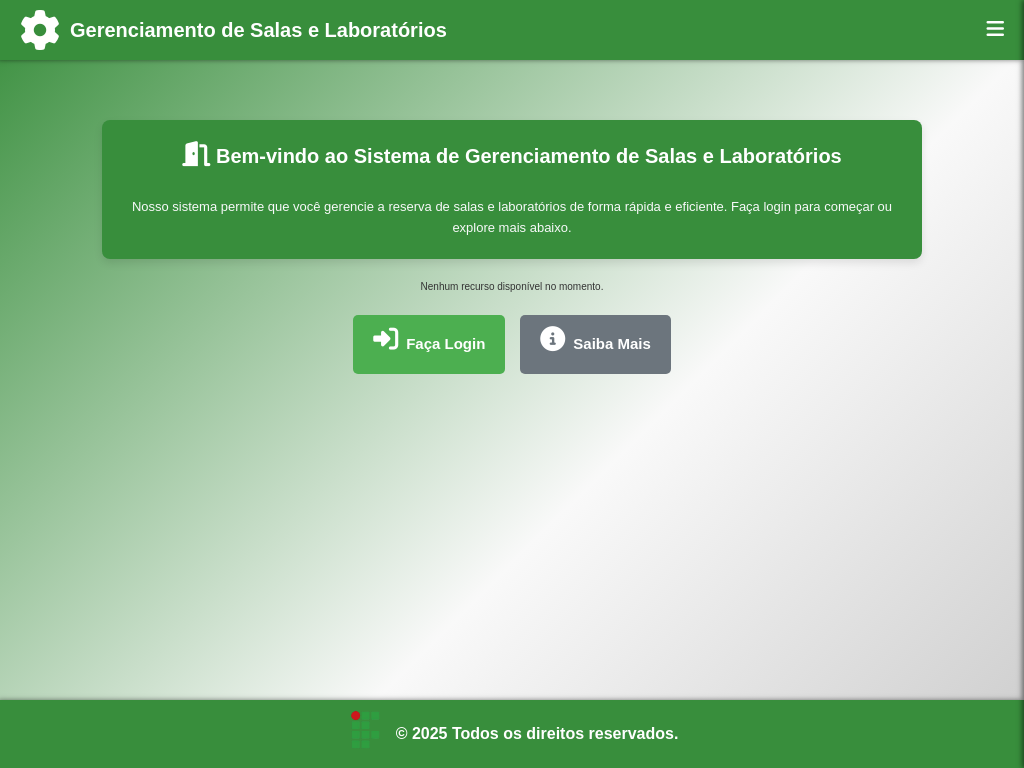
Test: Receber Feedbacks › Deve enviar o feedback com dados válidos e exibir mensagem de sucesso
Click the element with class "menu-toggle": [996, 30] box 987,19 -> 1005,41
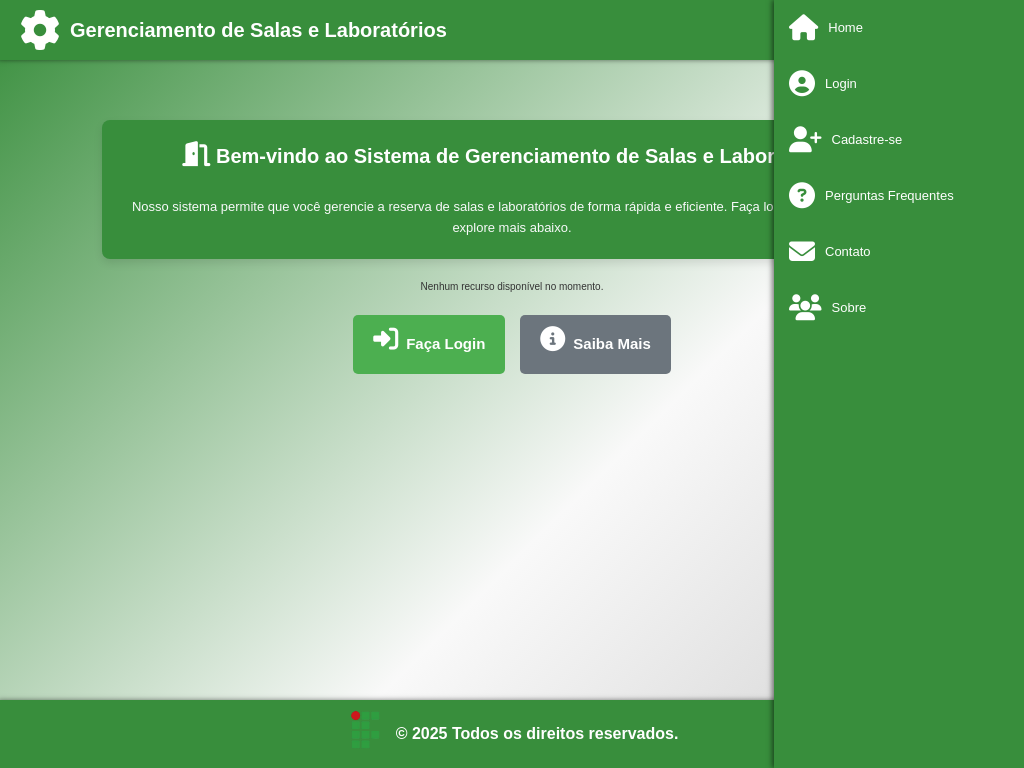
Click the link to "/contato": [830, 252] box 789,239 -> 871,265
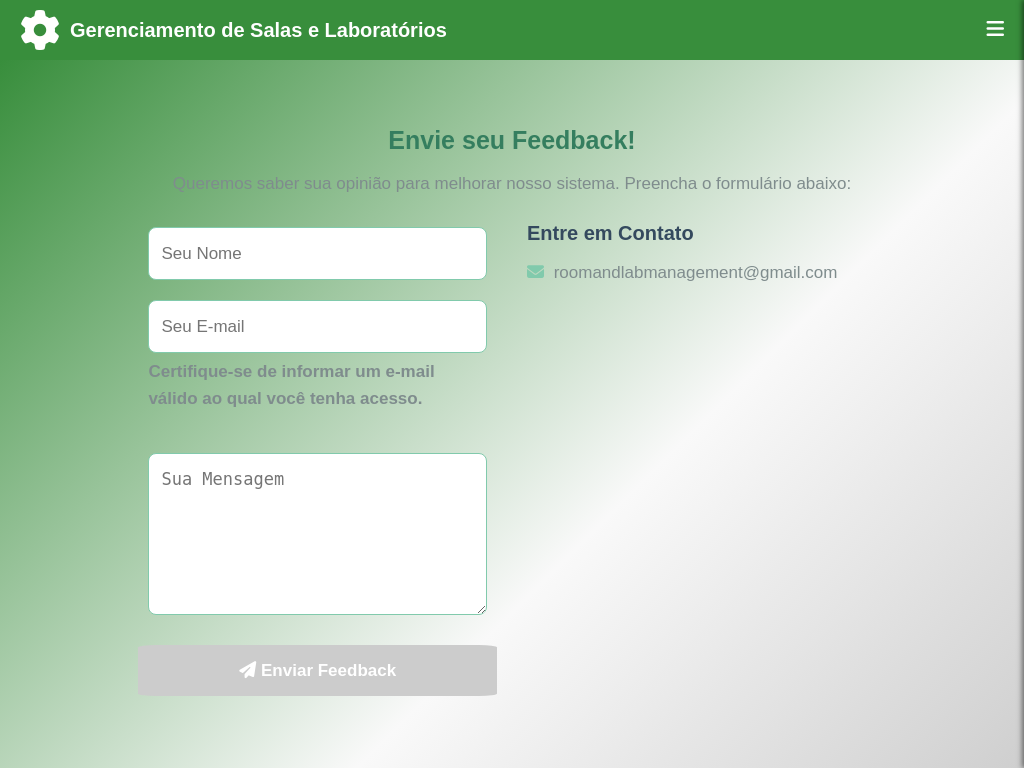
In the field with placeholder "Seu Nome": [318, 254] box 148,227 -> 487,280, type "Robson Albuquerque"
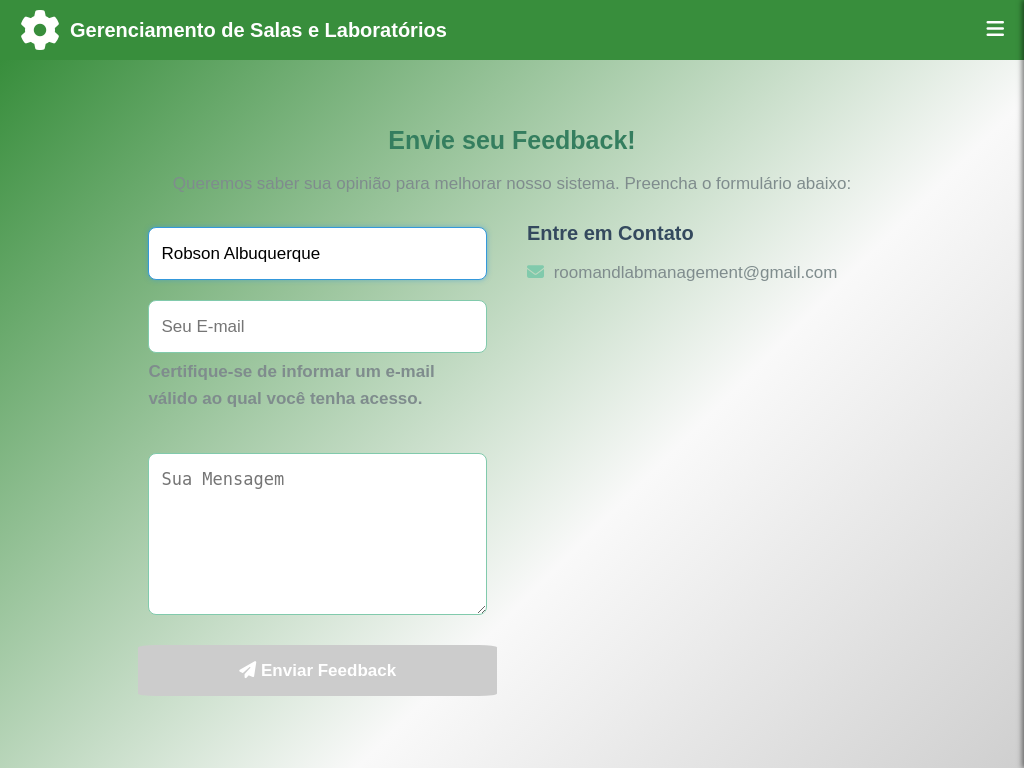
In the field with placeholder "Seu E-mail": [318, 327] box 148,300 -> 487,353, type "robson@example.com"
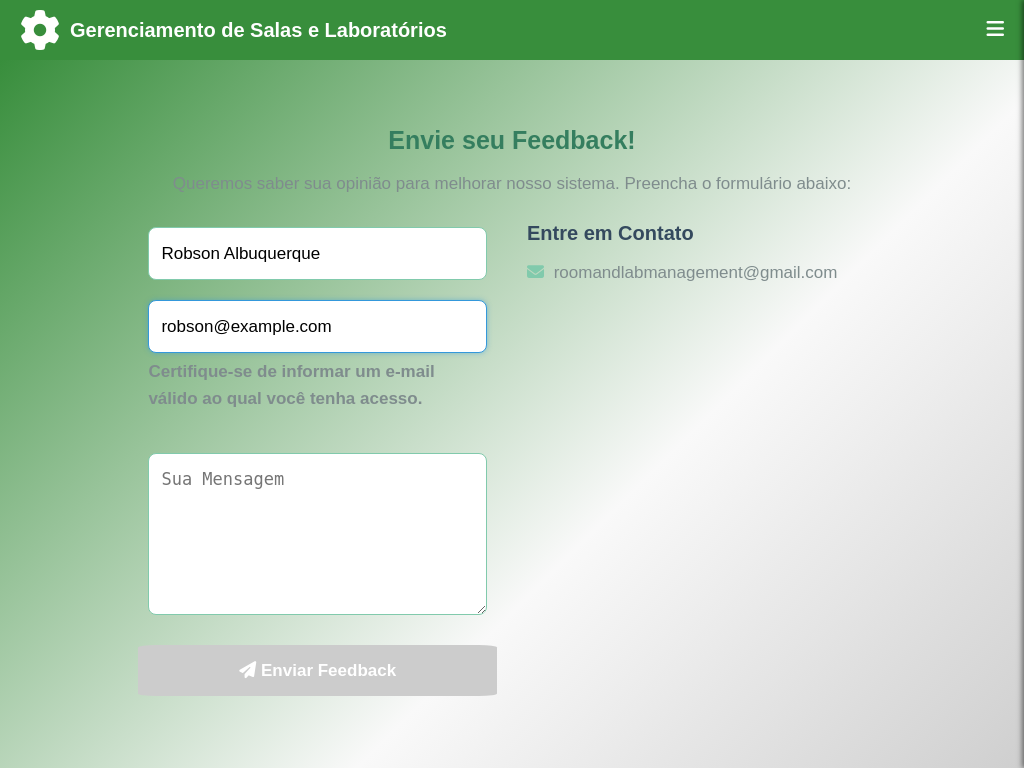
In the text box with placeholder "Sua Mensagem": [318, 534] box 148,453 -> 487,615, type "Este é meu feedback!"
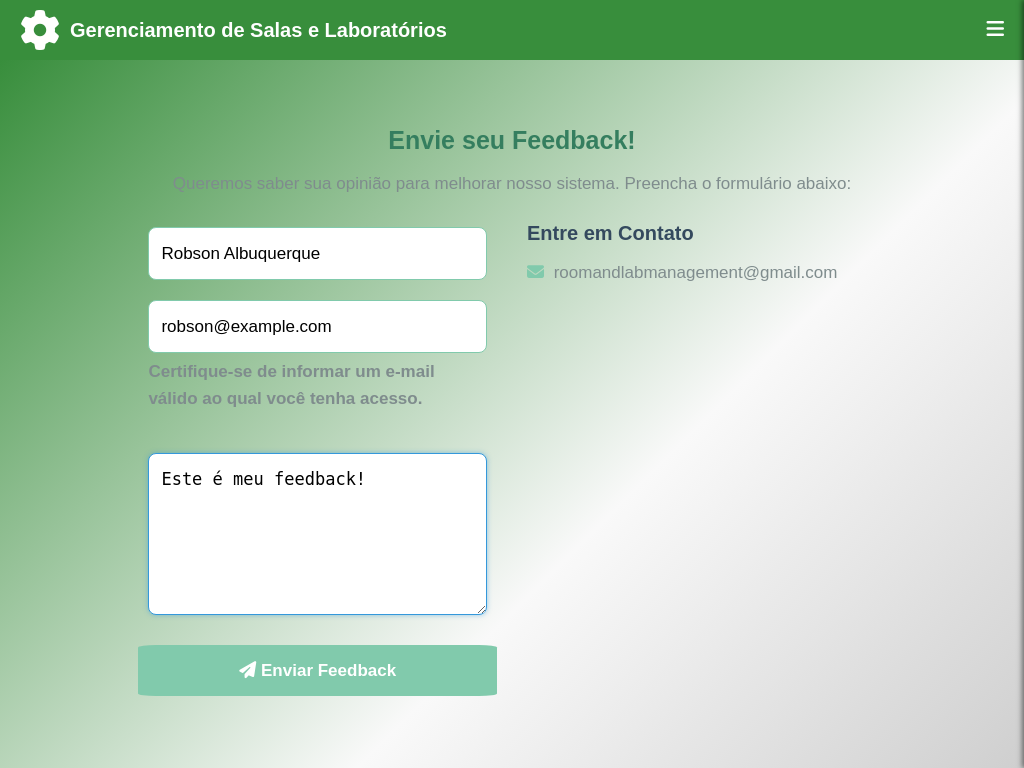
Click the submit button: [318, 671] box 138,645 -> 497,696
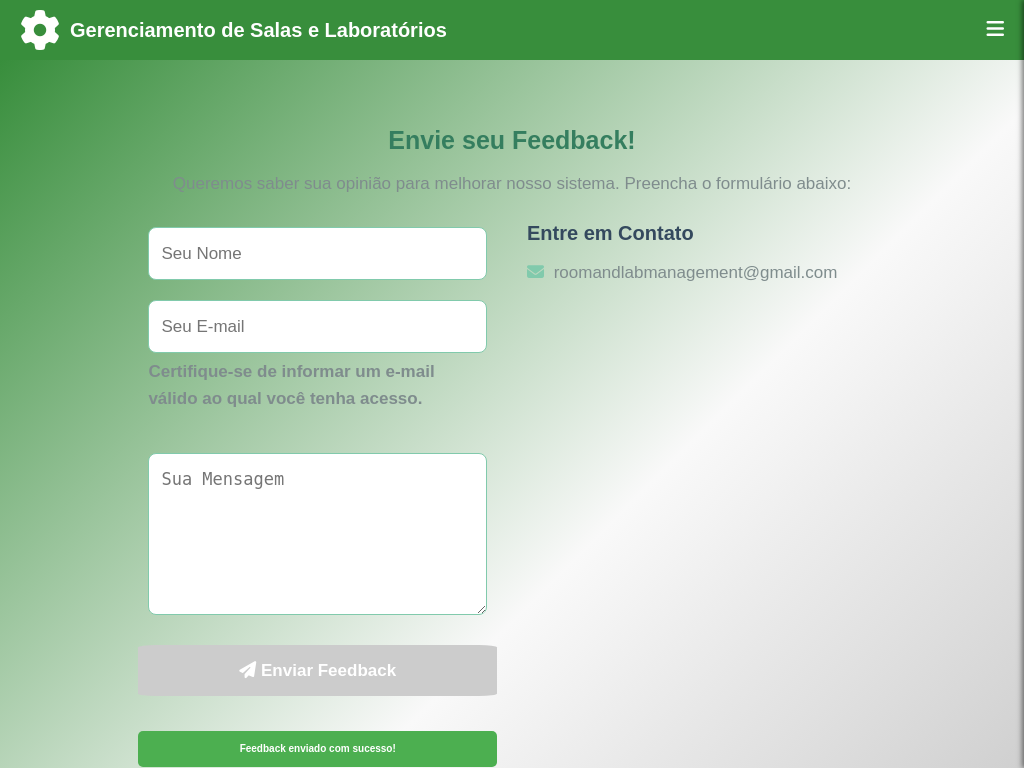
Expected: the text with class "success" reads "Feedback enviado com sucesso!", 138,731 -> 497,767
